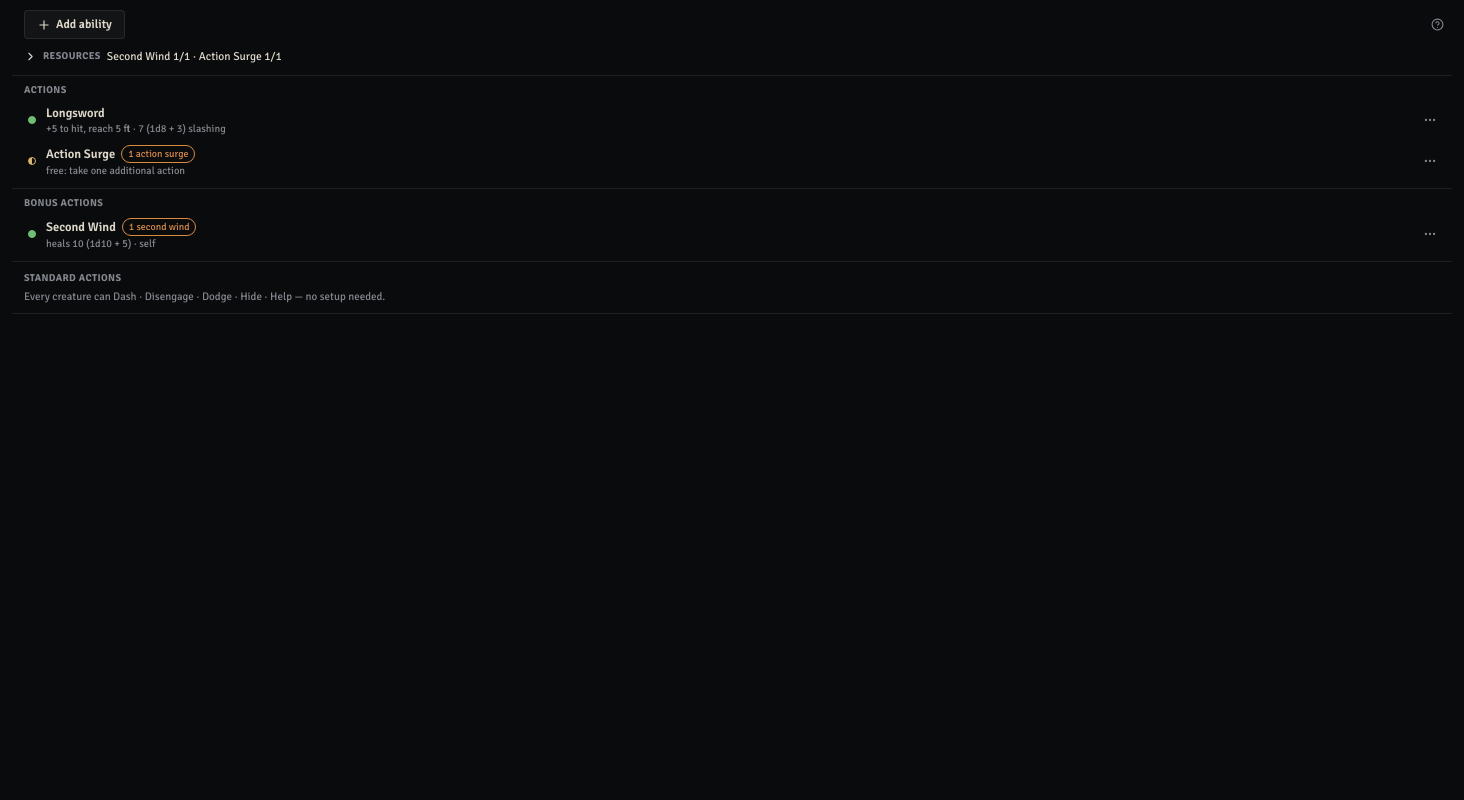
Test: items on the Abilities tab › starts an item from scratch: a healing potion, added under Items
Click the button "Add ability": [74, 24] box 24,10 -> 125,39
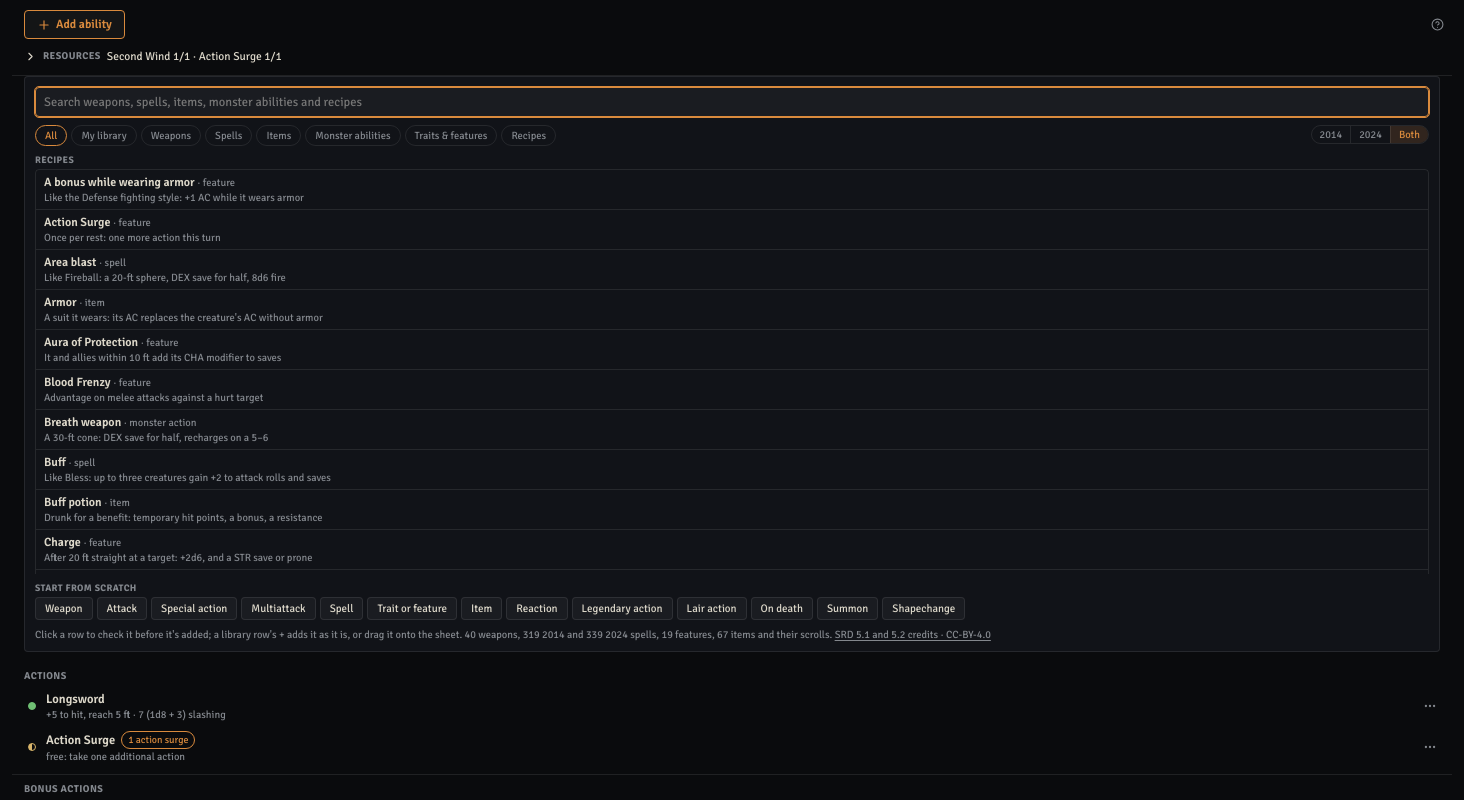
Click the button "Item": [482, 608] box 461,597 -> 502,620
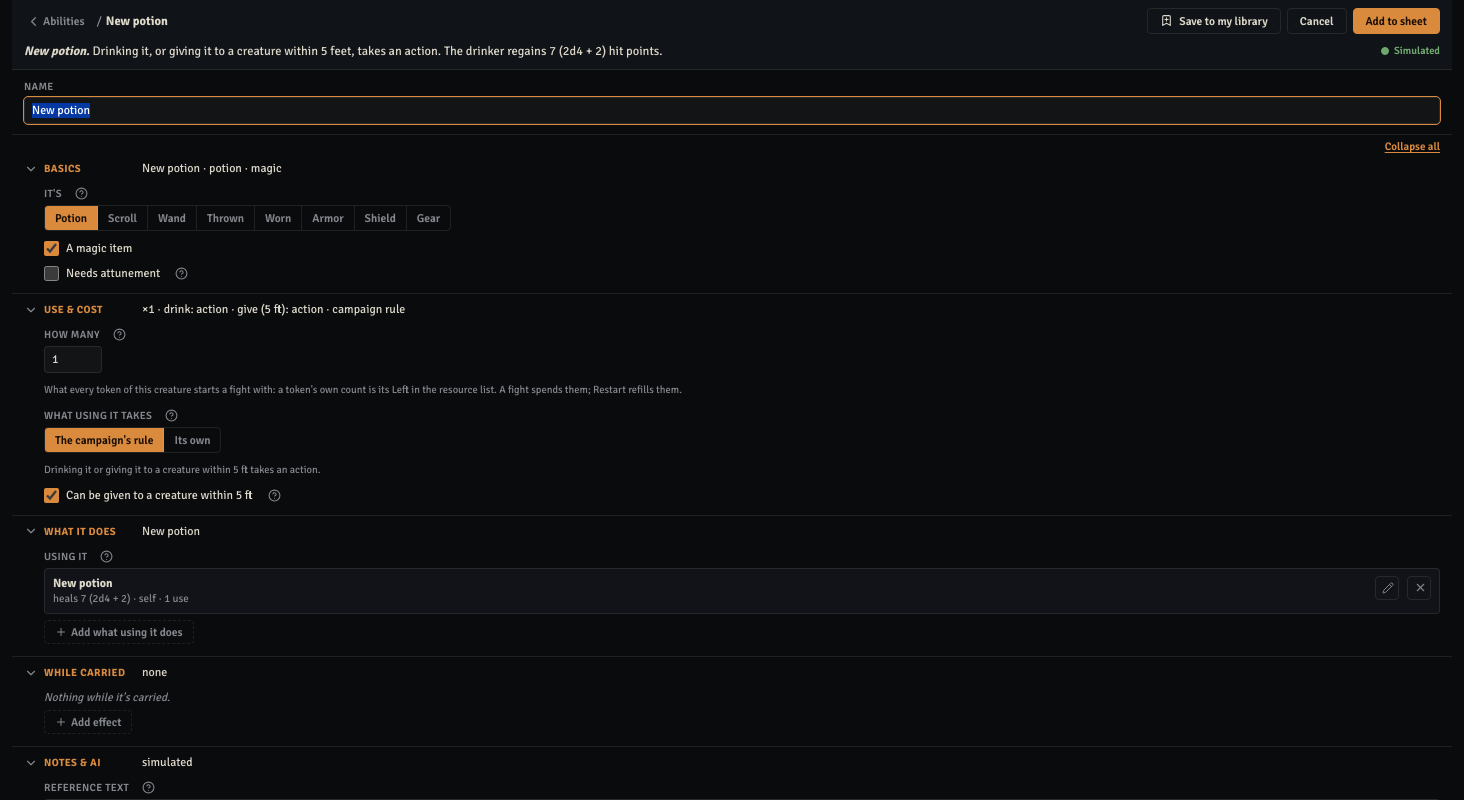
Replace the text in the field labelled "Name" with "Elixir of Mending": [732, 111] box 24,97 -> 1440,124
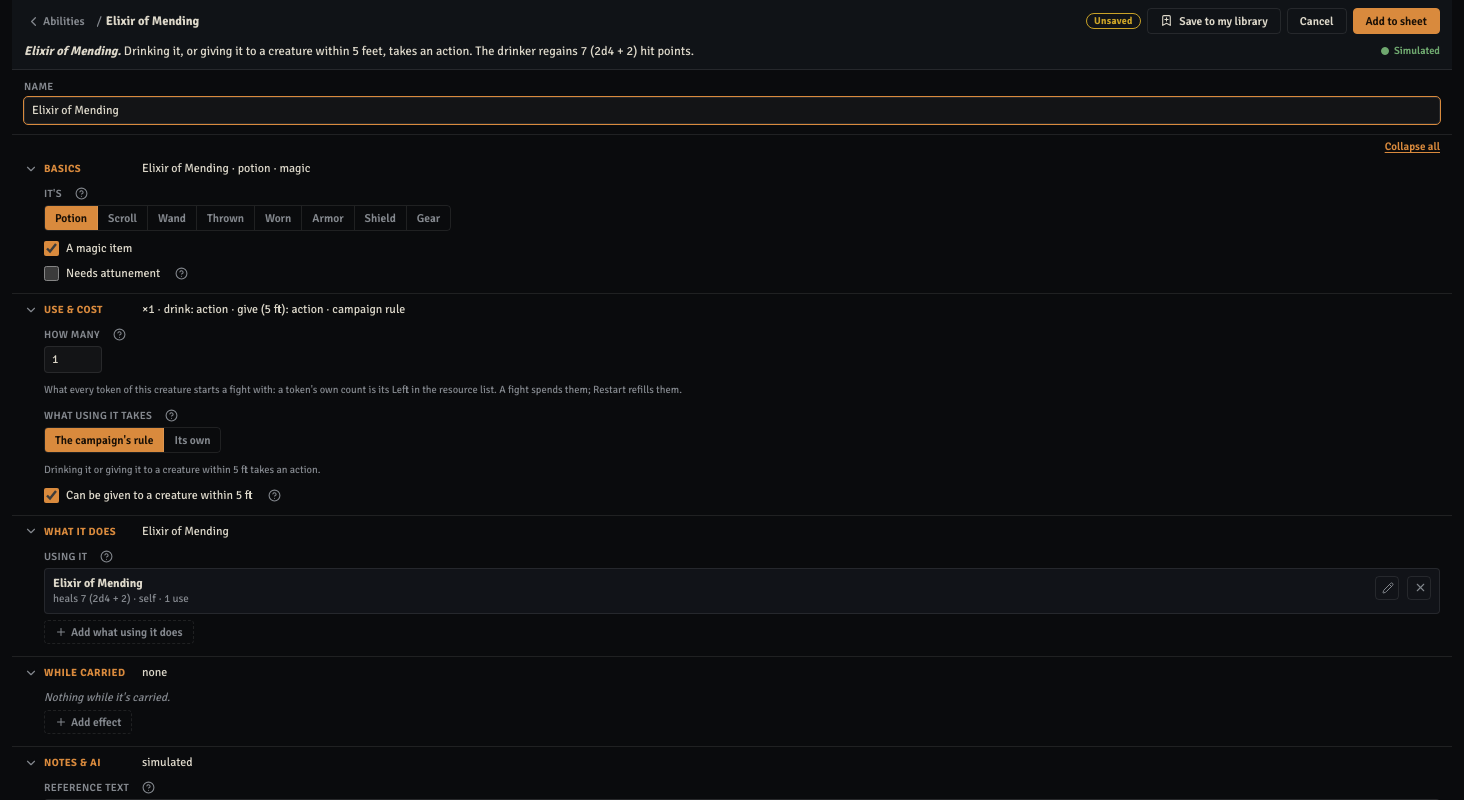
Click the button "Add to sheet": [1396, 21] box 1352,8 -> 1440,34
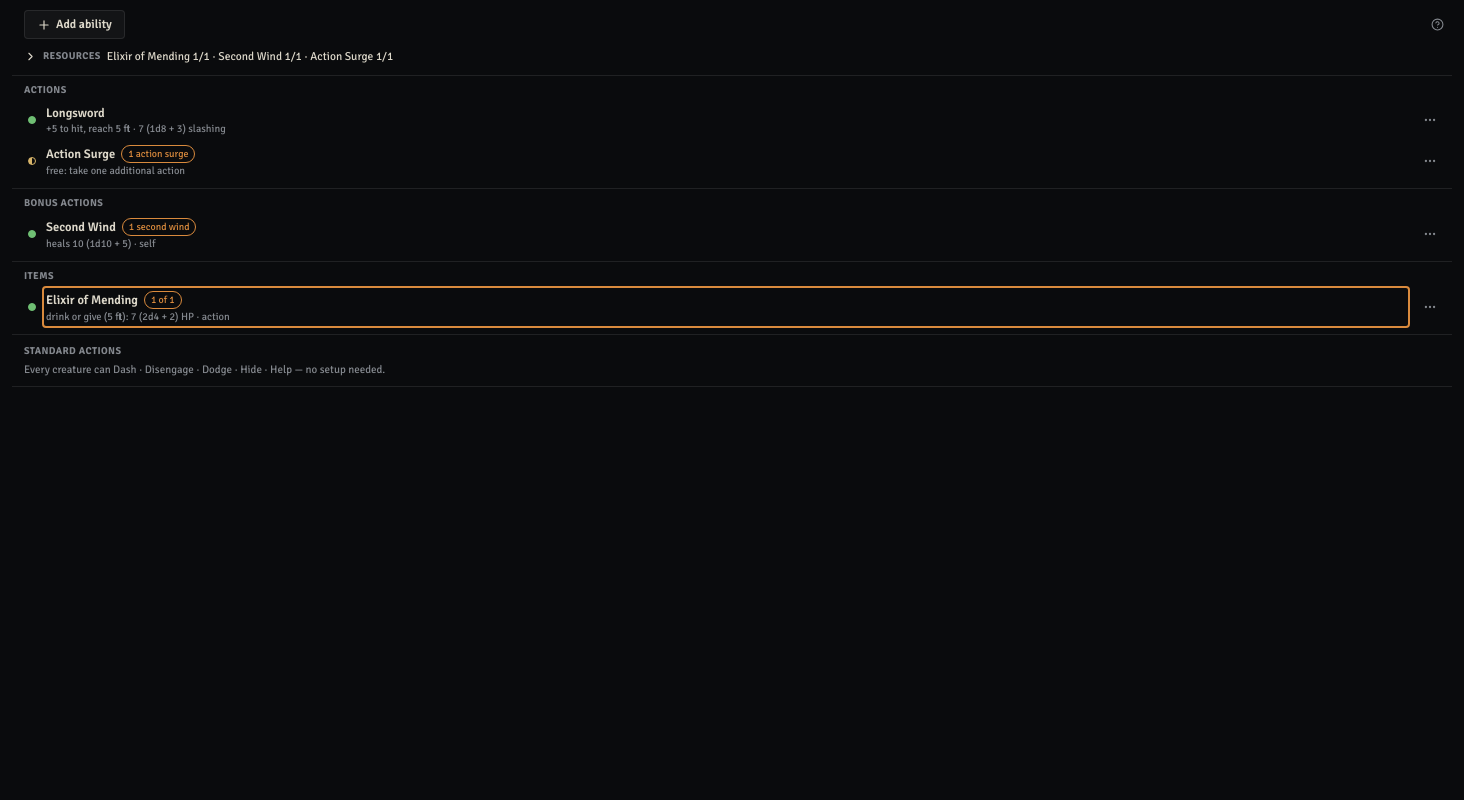
Now the button with aria-label "Edit Elixir of Mending" is shown, box 42,286 -> 1410,328
